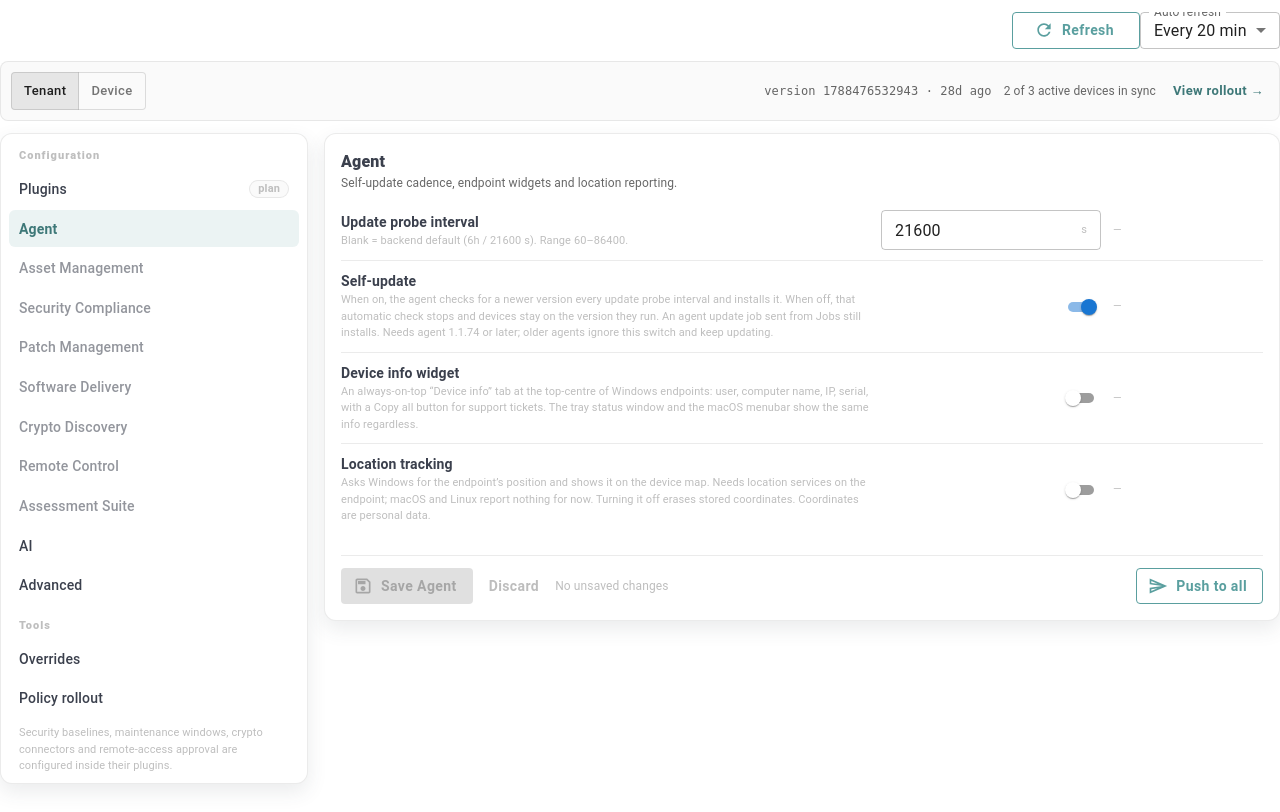
Scenario: saving the tenant policy › refuses to save while the plugin catalog is empty
This screenshot has width=1280, height=812.
Replace the text in the number field named "Update probe interval" with "7200": (979, 230) [881, 210, 1077, 250]
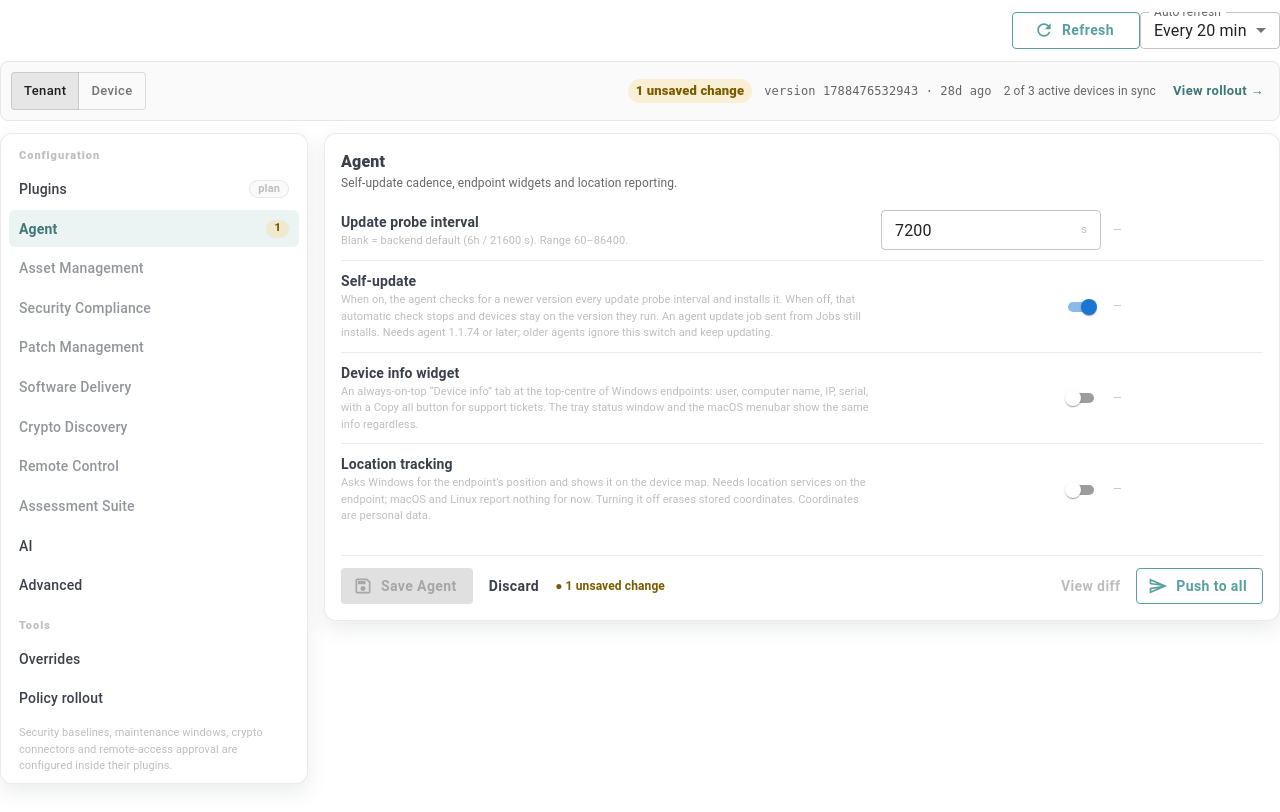
Expected: the button "Save Agent" is disabled, [341, 568, 473, 604]
Result: the text "1 unsaved change" is shown at [628, 81, 752, 101]
